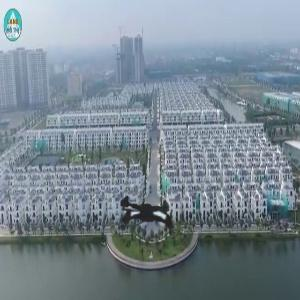drone: (61, 130, 231, 300)
